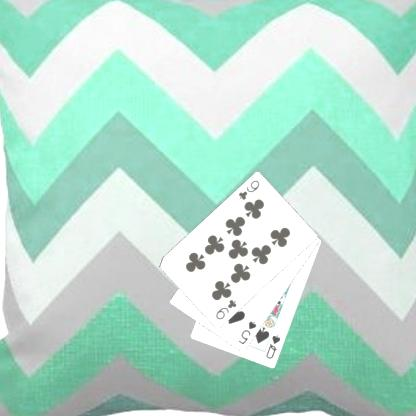5S: (235, 318, 258, 346)
9C: (213, 297, 238, 322), (236, 177, 261, 202)
QS: (263, 332, 282, 360)
